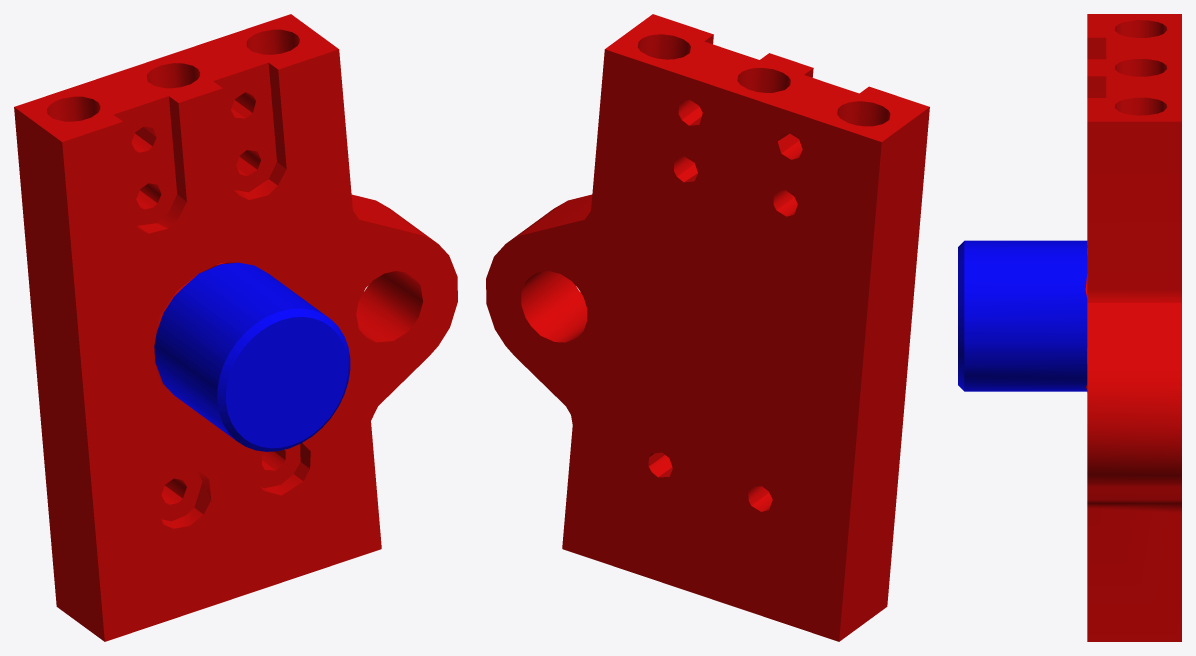
Rendered from Inner Leg.fbx.
3 views of the same model, side by side, from view 1: azimuth 30°, elevation 25°; view 2: azimuth 150°, elevation 25°; view 3: azimuth 270°, elevation 25° (orthographic). The views are drawn at different scales.
Visible parts, largest first — view 1: SM_GenhoookPivotBlock_InnerLeg_Right; view 2: SM_GenhoookPivotBlock_InnerLeg_Right; view 3: SM_GenhoookPivotBlock_InnerLeg_Right.
Part boxes in pixels (x1,y1,x2,y2): SM_GenhoookPivotBlock_InnerLeg_Right: [14, 14, 457, 641]; SM_GenhoookPivotBlock_InnerLeg_Right: [486, 14, 929, 641]; SM_GenhoookPivotBlock_InnerLeg_Right: [958, 14, 1181, 641].
Bounding box in the file's own units: 35.42 × 45.8 × 17.7.
